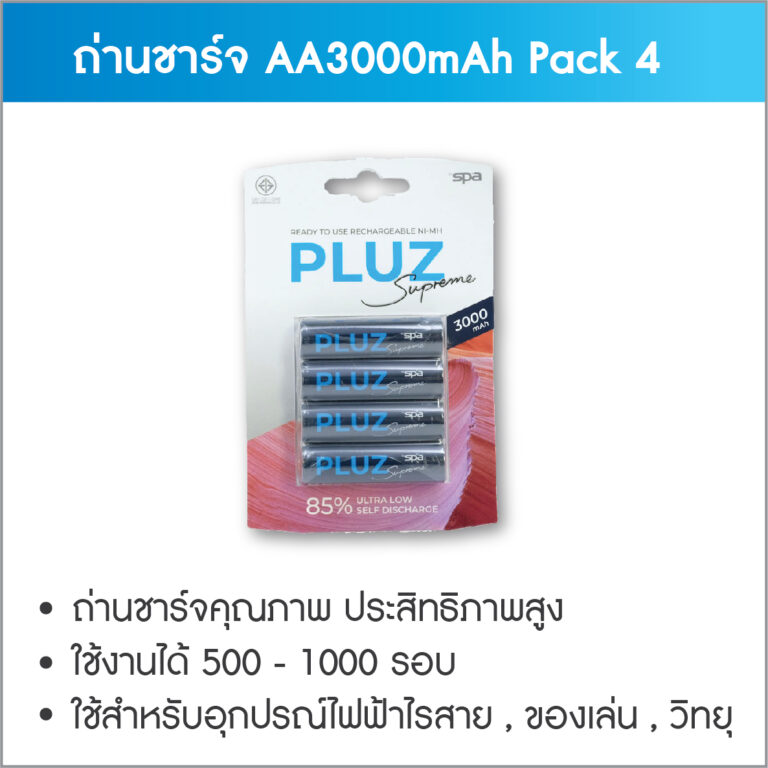Battery: (295, 313, 448, 365), (295, 360, 447, 405), (298, 443, 450, 488), (297, 402, 450, 446)
